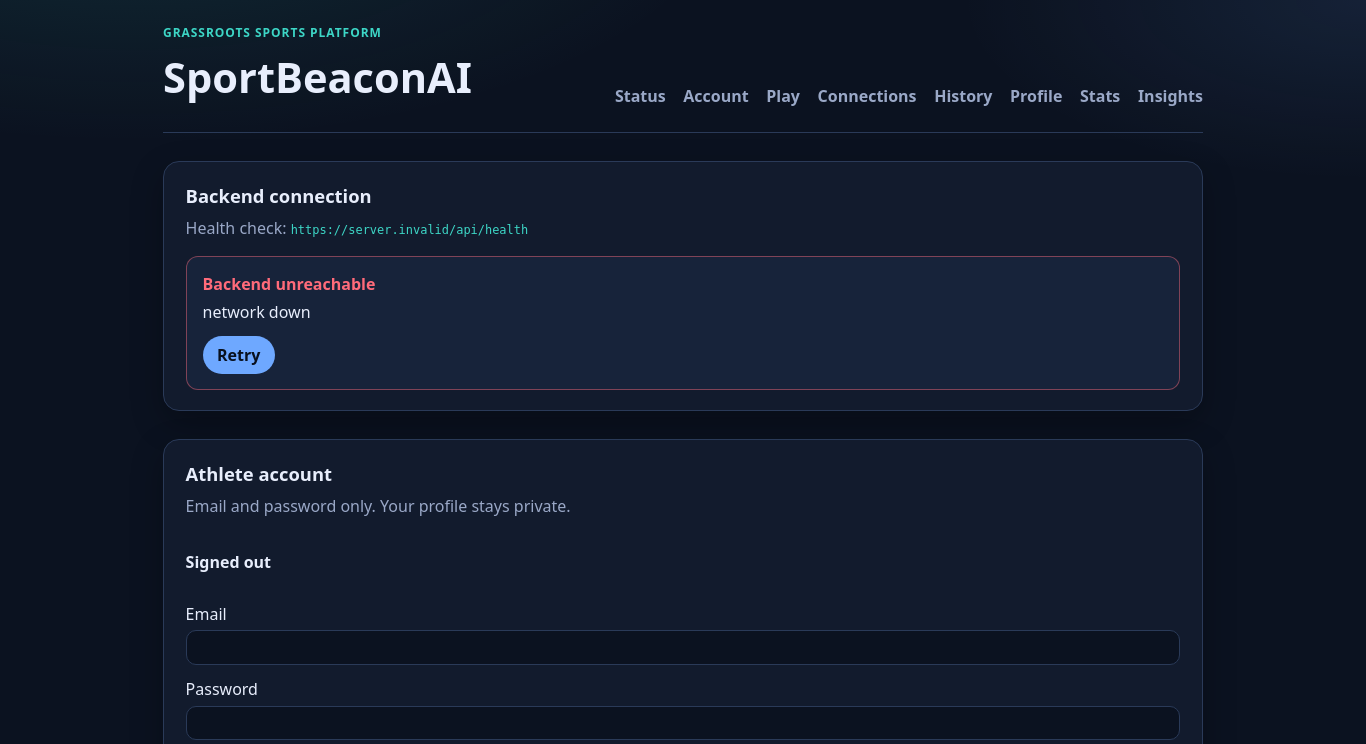
Test: SportBeaconAI athlete workspace › shows a retry control when health fails
Check: the text "Backend unreachable" is shown, box [203,273,375,295]
Click the button "Retry". click: (239, 355)
box: [203,336,275,374]
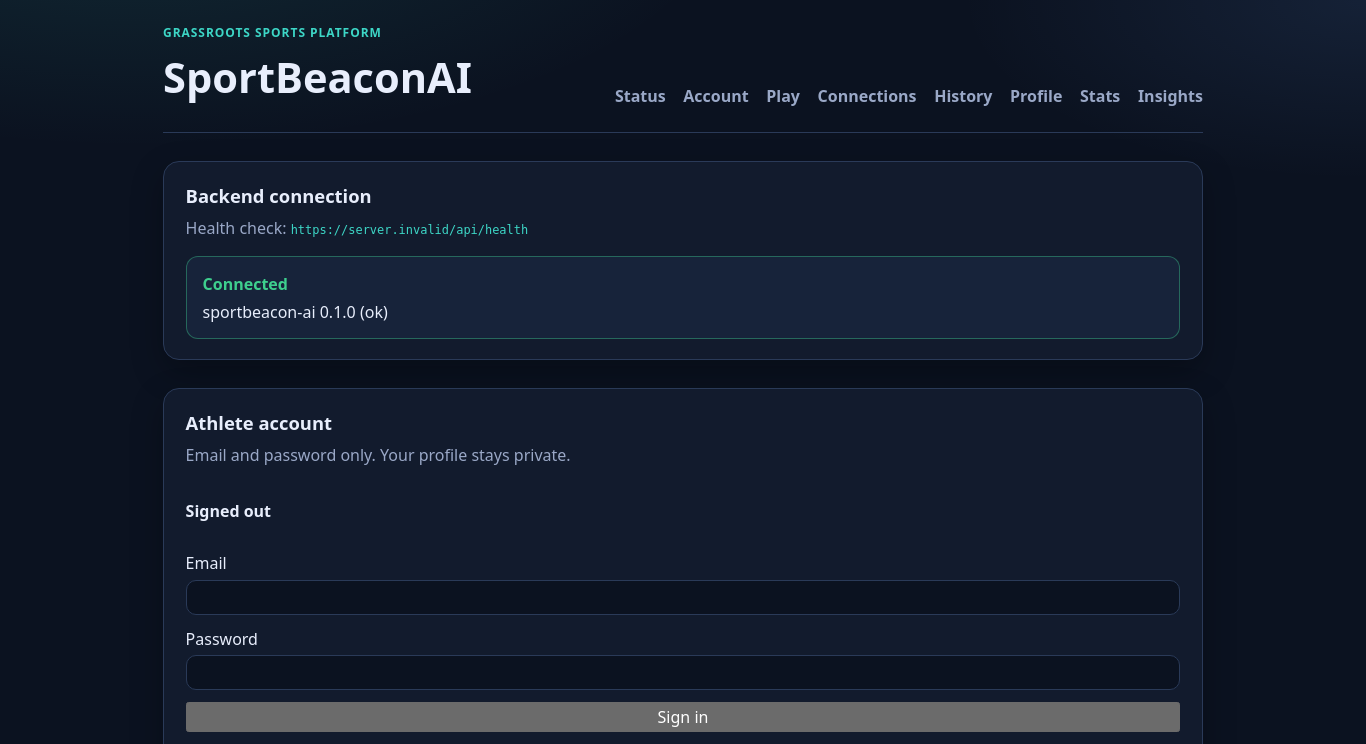
Check: the element with test id "health-status" shows "Connected", box [203,273,288,295]
